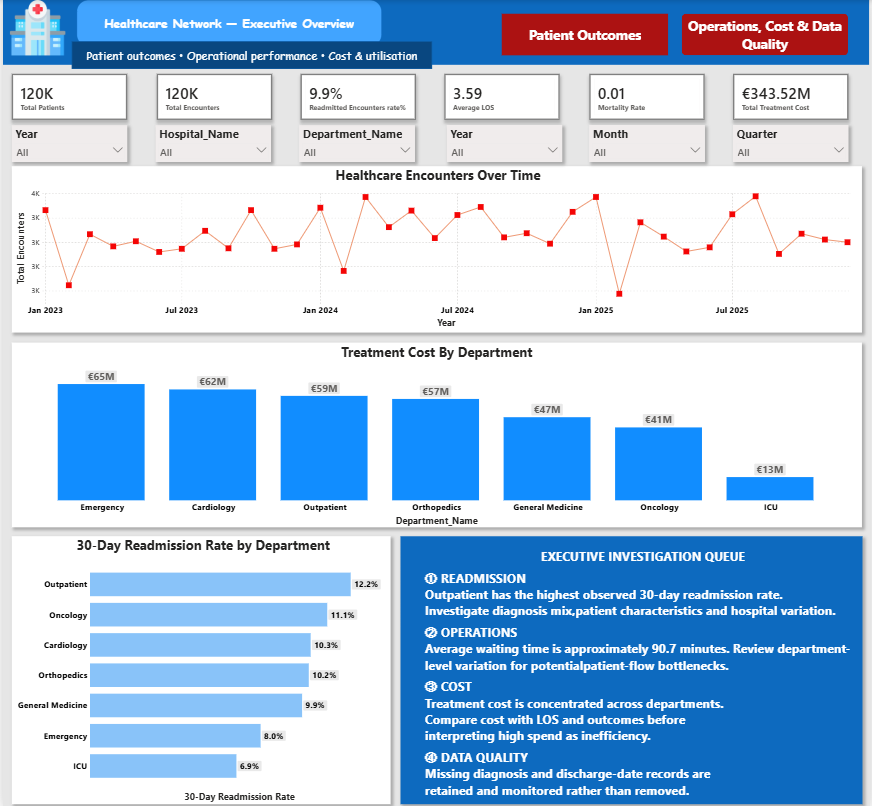

The dashboard page shown, as its layout file describes it:
{"tool":"powerbi","page":{"name":"Executive Healthcare Network","canvas":[3000,2800],"ordinal":0},"visuals":[{"type":"shape","box":[-8,0,3008,224],"z":0},{"type":"shape","box":[256,0,1056,160],"z":1000},{"type":"shape","box":[240,144,1248,96],"z":2000},{"type":"slicer","fields":{"Values":["Dim_Calendar.Year"]},"box":[32,432,400,128],"z":3000},{"type":"slicer","fields":{"Values":["Dim_Hospitals.Hospital_Name"]},"box":[528,432,400,128],"z":4000},{"type":"slicer","fields":{"Values":["Dim_Departments.Department_Name"]},"box":[1024,432,400,128],"z":5000},{"type":"lineChart","title":"Healthcare Encounters Over Time","fields":{"Y":["Fact_Encounters.Total Encounters"],"Category":["Dim_Calendar.Date.Variation.Date Hierarchy.Year","Dim_Calendar.Date.Variation.Date Hierarchy.Month"]},"box":[32,576,2944,576],"z":6000},{"type":"clusteredBarChart","title":"30-Day Readmission Rate by Department","fields":{"Category":["Dim_Departments.Department_Name"],"Y":["Fact_Encounters.Readmitted Encounters rate%"]},"box":[32,1856,1312,928],"z":7000},{"type":"columnChart","title":"Treatment Cost By Department","fields":{"Category":["Dim_Departments.Department_Name"],"Y":["Fact_Encounters.Total Treatment Cost"]},"box":[32,1184,2944,640],"z":8000},{"type":"textbox","box":[1376,1856,1600,928],"z":9000},{"type":"image","box":[0,0,240,192],"z":10000},{"type":"cardVisual","fields":{"Data":["Fact_Encounters.Total Patients"]},"box":[32,256,400,160],"z":11000},{"type":"cardVisual","fields":{"Data":["Fact_Encounters.Total Encounters"]},"box":[531.2,256,400,160],"z":12000},{"type":"cardVisual","fields":{"Data":["Fact_Encounters.Readmitted Encounters rate%"]},"box":[1030.4,256,400,160],"z":13000},{"type":"cardVisual","fields":{"Data":["Fact_Encounters.Average Length of stay"]},"box":[1529.6,256,400,160],"z":14000},{"type":"cardVisual","fields":{"Data":["Fact_Encounters.Mortality Rate"]},"box":[2028.8,256,400,160],"z":15000},{"type":"cardVisual","fields":{"Data":["Fact_Encounters.Total Treatment Cost"]},"box":[2528,256,400,160],"z":16000},{"type":"shape","box":[1728,48,576,144],"z":17000},{"type":"shape","box":[2352,48,576,144],"z":18000},{"type":"slicer","fields":{"Values":["Dim_Calendar.Month"]},"box":[2032,432,400,128],"z":19000},{"type":"slicer","fields":{"Values":["Dim_Calendar.Quarter"]},"box":[2528,432,400,128],"z":20000},{"type":"slicer","fields":{"Values":["Dim_Calendar.Year"]},"box":[1536,432,400,128],"z":21000}]}

Visuals, with their boxes in screenshot pixels (x1, y1, x2, y2), scaled from the page's 3000x2800 canvas onto the 872x806 screenshot:
shape: <region>0, 0, 871, 64</region>
shape: <region>74, 0, 381, 46</region>
shape: <region>70, 41, 433, 69</region>
slicer - Dim_Calendar.Year: <region>9, 124, 126, 161</region>
slicer - Dim_Hospitals.Hospital_Name: <region>153, 124, 270, 161</region>
slicer - Dim_Departments.Department_Name: <region>298, 124, 414, 161</region>
"Healthcare Encounters Over Time" lineChart: <region>9, 166, 865, 332</region>
"30-Day Readmission Rate by Department" clusteredBarChart: <region>9, 534, 391, 801</region>
"Treatment Cost By Department" columnChart: <region>9, 341, 865, 525</region>
textbox: <region>400, 534, 865, 801</region>
image: <region>0, 0, 70, 55</region>
cardVisual - Fact_Encounters.Total Patients: <region>9, 74, 126, 120</region>
cardVisual - Fact_Encounters.Total Encounters: <region>154, 74, 271, 120</region>
cardVisual - Fact_Encounters.Readmitted Encounters rate%: <region>300, 74, 416, 120</region>
cardVisual - Fact_Encounters.Average Length of stay: <region>445, 74, 561, 120</region>
cardVisual - Fact_Encounters.Mortality Rate: <region>590, 74, 706, 120</region>
cardVisual - Fact_Encounters.Total Treatment Cost: <region>735, 74, 851, 120</region>
shape: <region>502, 14, 670, 55</region>
shape: <region>684, 14, 851, 55</region>
slicer - Dim_Calendar.Month: <region>591, 124, 707, 161</region>
slicer - Dim_Calendar.Quarter: <region>735, 124, 851, 161</region>
slicer - Dim_Calendar.Year: <region>446, 124, 563, 161</region>
